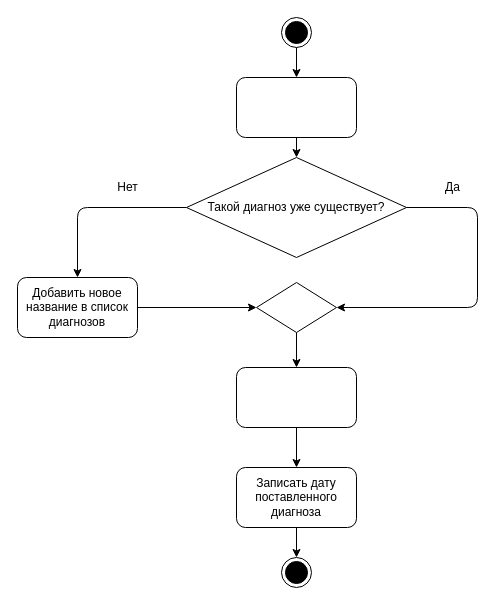
Image size: 503x605. Some labels were removed from this diagram. The shapes that lost their labels are listed below. From the top down, each one's box as (x1, y1, x2, y2) in pixels, then its label:
(236, 76, 356, 138): Поставить диагноз
(236, 366, 356, 428): Записать название диагноза в карту пациента
